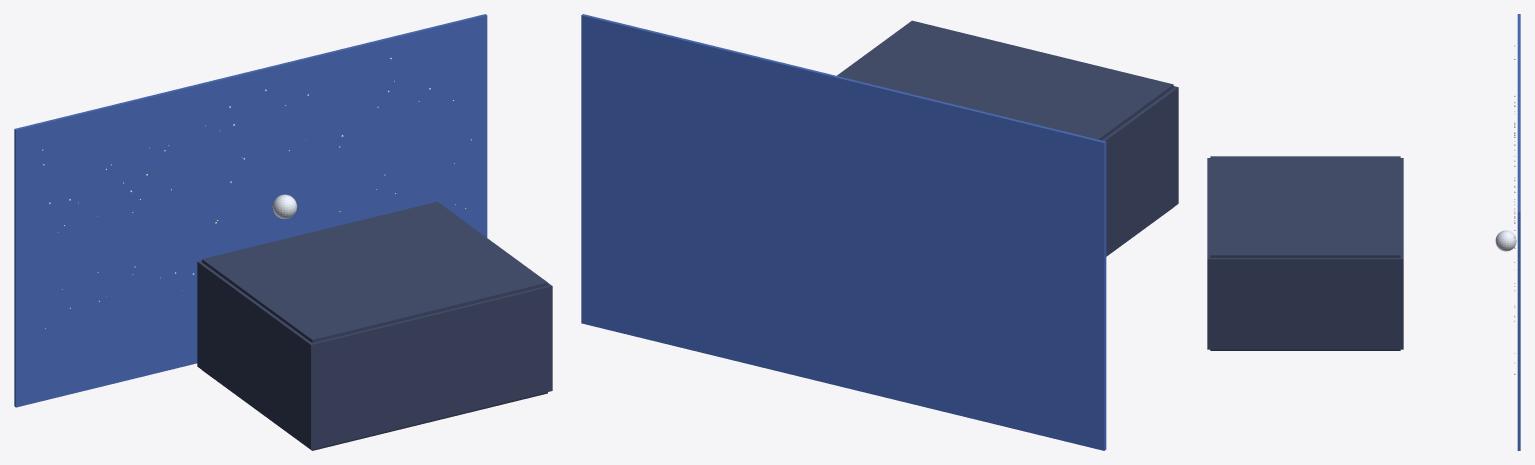
File: RoomShell.fbx
3 renders of one model, left to right at view 1: azimuth 30°, elevation 25°; view 2: azimuth 150°, elevation 25°; view 3: azimuth 270°, elevation 25°, orthographic. The views are drawn at different scales.
Visible parts, largest first — view 1: Sky_Backdrop, Ceiling, Wall_South, Wall_West, Floor; view 2: Sky_Backdrop, Ceiling, Wall_West; view 3: Ceiling, Wall_East, Sky_Backdrop, Wall_South, Wall_North_Right, Floor, Sky_Moon.
Boxes of the visible parts, <box> form: Sky_Backdrop: <box>14,14,487,407</box>; Ceiling: <box>202,201,547,342</box>; Wall_South: <box>309,285,552,449</box>; Wall_West: <box>199,262,311,447</box>; Floor: <box>202,370,547,450</box>; Sky_Backdrop: <box>581,14,1106,450</box>; Ceiling: <box>837,20,1173,140</box>; Wall_West: <box>1102,88,1176,256</box>; Ceiling: <box>1210,156,1400,257</box>; Wall_East: <box>1210,258,1400,349</box>; Sky_Backdrop: <box>1517,14,1520,450</box>; Wall_South: <box>1207,158,1210,349</box>; Wall_North_Right: <box>1400,227,1403,349</box>; Floor: <box>1210,349,1400,350</box>; Sky_Moon: <box>1495,230,1516,251</box>.
Bounding box in the file's own units: 16 × 9 × 10.7.
